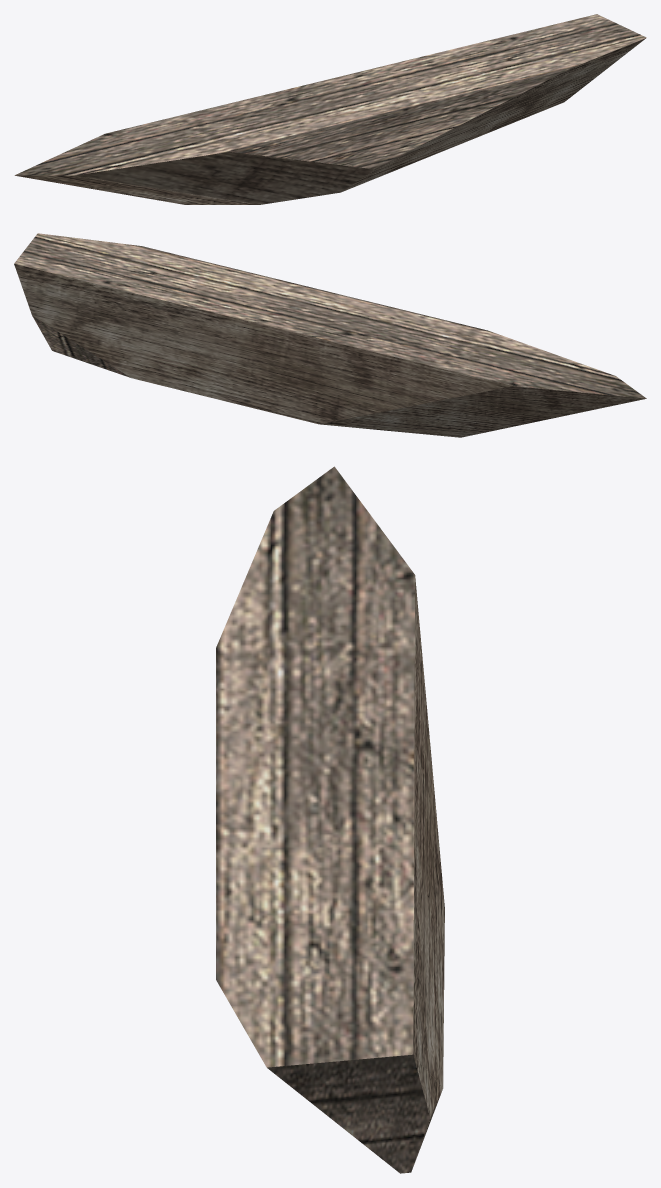
The model's file is wood_splinter_01_001.FBX.
The picture shows the model from 3 angles, top to bottom: view 1: azimuth 30°, elevation 25°; view 2: azimuth 150°, elevation 25°; view 3: azimuth 270°, elevation 25°; orthographic projection. The views are drawn at different scales.
Visible parts, largest first — view 1: Box001_v_002; view 2: Box001_v_002; view 3: Box001_v_002.
Boxes of the visible parts, <box> form: Box001_v_002: <box>14,14,646,204</box>; Box001_v_002: <box>14,233,646,437</box>; Box001_v_002: <box>216,466,444,1173</box>.
Size of the model in its own units: 27.69 by 3.31 by 4.46.
1 material, 1 textured.
